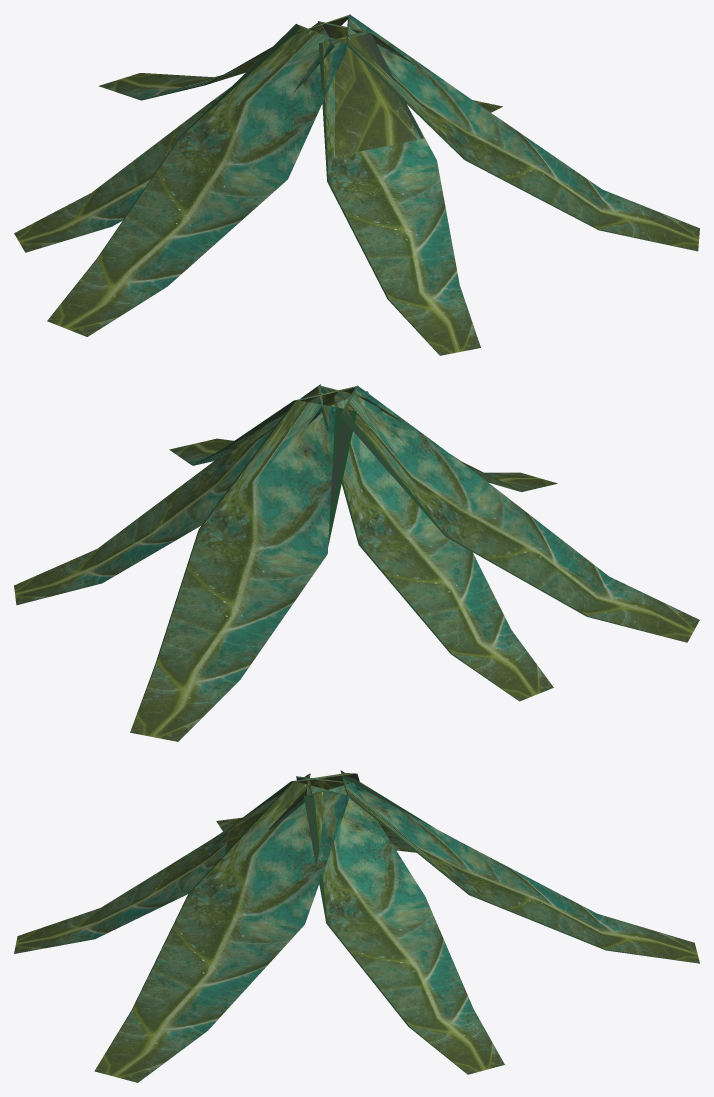
Rendered from lowpoly_bush.fbx.
3 renders of one model, top to bottom at view 1: azimuth 30°, elevation 25°; view 2: azimuth 150°, elevation 25°; view 3: azimuth 270°, elevation 25°, orthographic. The views are drawn at different scales.
Parts seen in each view (by area): view 1: pCube10; view 2: pCube10; view 3: pCube10.
Part boxes in pixels (x1,y1,x2,y2): pCube10: [14, 14, 699, 355]; pCube10: [14, 384, 699, 741]; pCube10: [14, 770, 699, 1082].
Size of the model in its own units: 0.4353 by 0.1363 by 0.4704.
